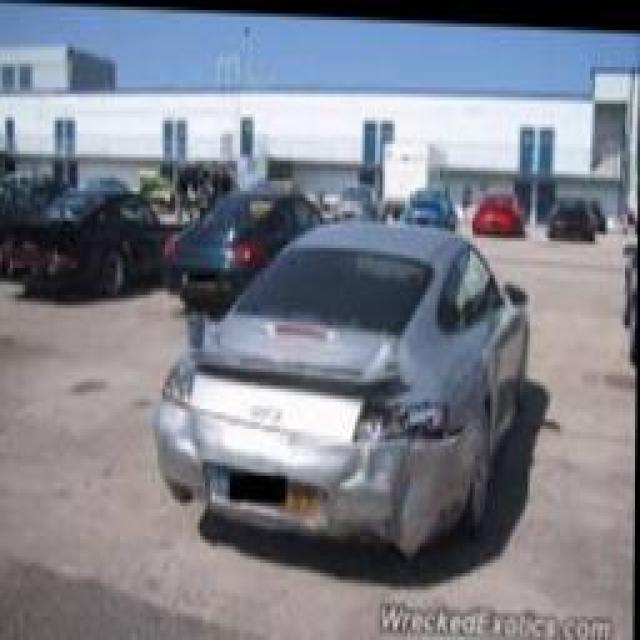replaceable: (331, 461, 451, 564), (353, 400, 452, 442)
